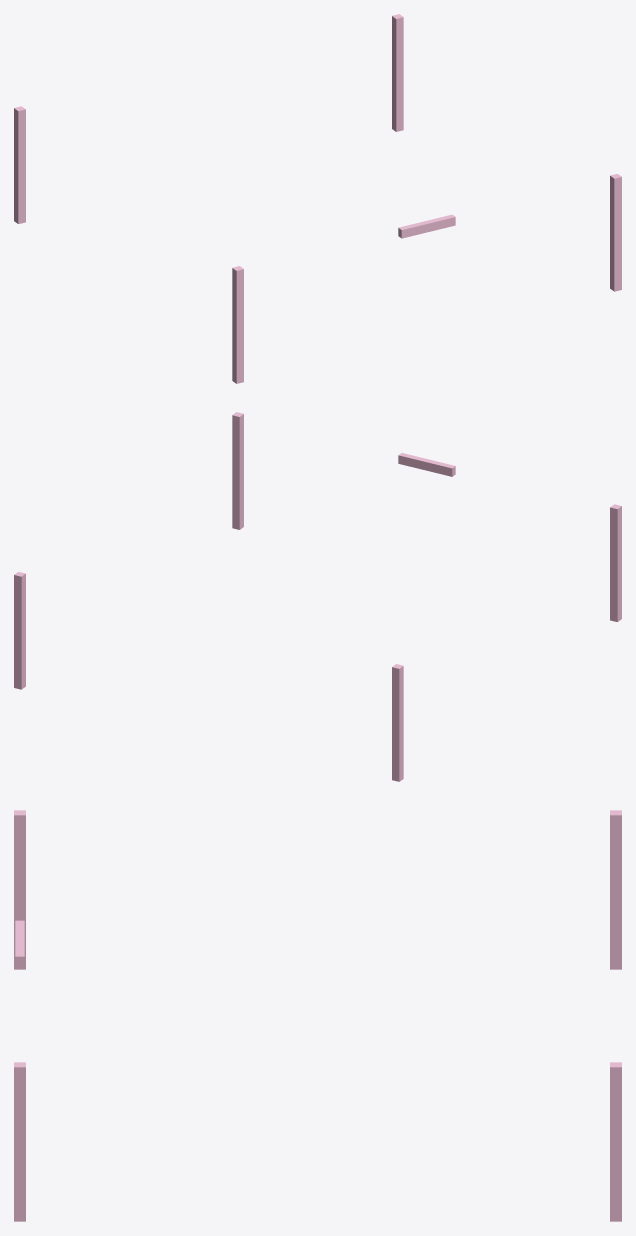
The model's file is accent-skin-4.glb.
The picture shows the model from 3 angles, top to bottom: view 1: azimuth 30°, elevation 25°; view 2: azimuth 150°, elevation 25°; view 3: azimuth 270°, elevation 25°; orthographic projection. The views are drawn at different scales.
Visible parts, largest first — view 1: accent-skin-4; view 2: accent-skin-4; view 3: accent-skin-4.
Boxes of the visible parts, x1=… form: accent-skin-4: x1=14, y1=14, x2=621, y2=383; accent-skin-4: x1=14, y1=412, x2=621, y2=781; accent-skin-4: x1=14, y1=810, x2=621, y2=1221.
Bounding box in the file's own units: 14.28 × 4 × 14.28.
Materials: 1 (1 with a texture image).
